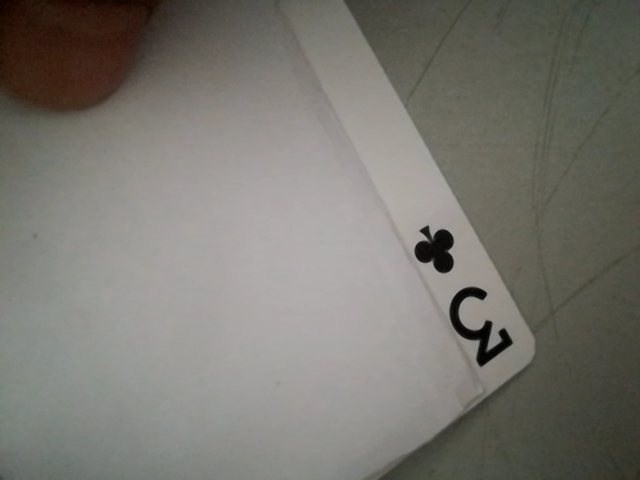mh 3: (407, 215, 527, 378)
